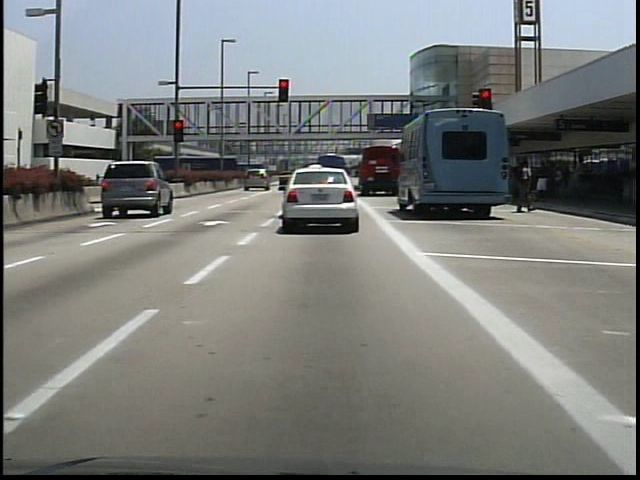person: (512, 153, 533, 214), (534, 157, 551, 203)
